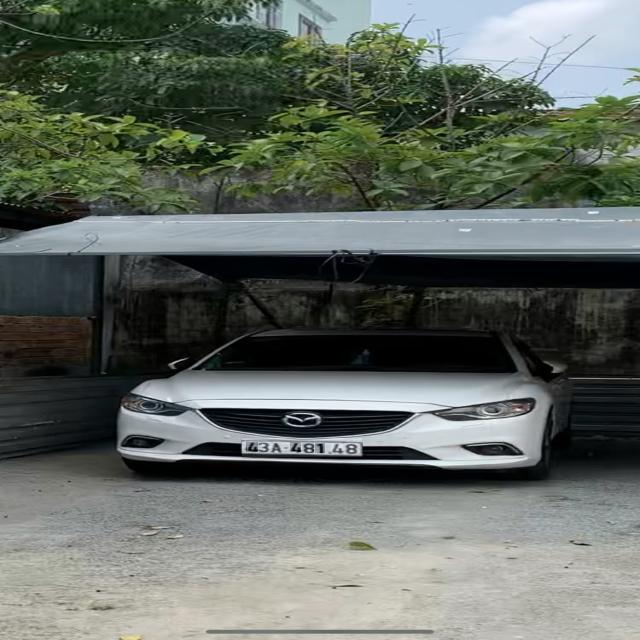car: (109, 300, 580, 495)
plate: (230, 429, 373, 467)
